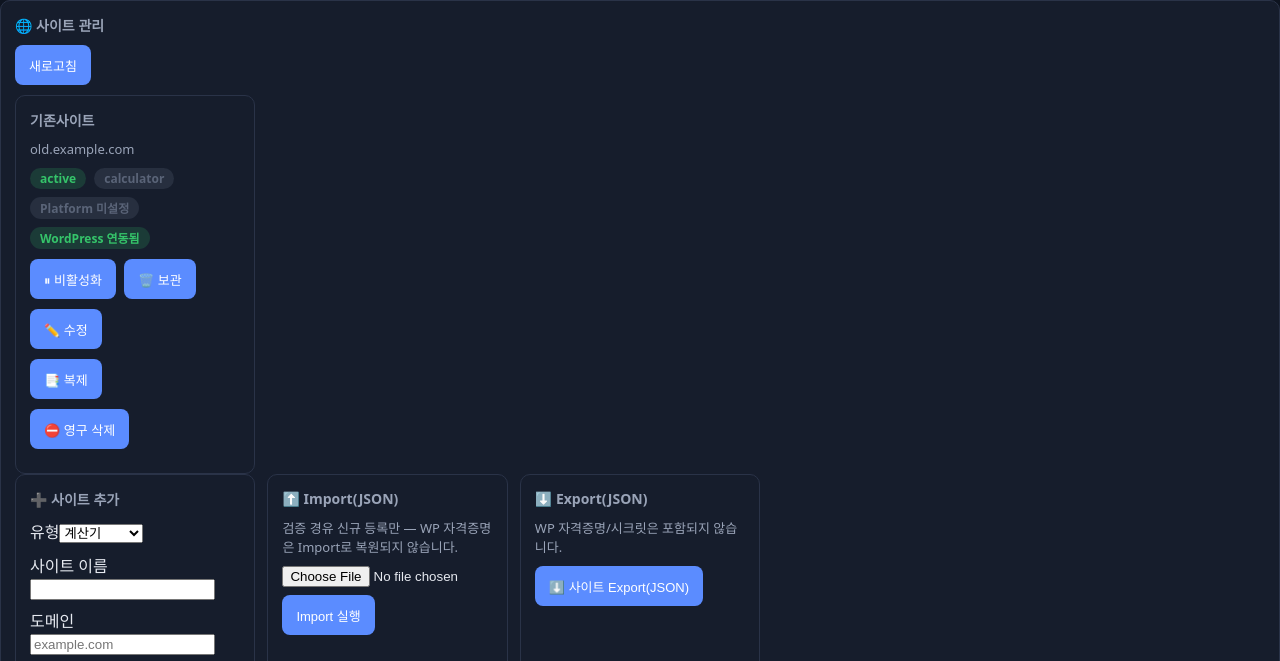
Scenario: Site edit panel (STEP P2-07) › shows a failure message when the basic-info save fails
Expected: the heading "기존사이트" is shown, [30,111,94,130]
Step 1. Click the button "✏️ 수정" → (66,329), box [30,309,102,349]
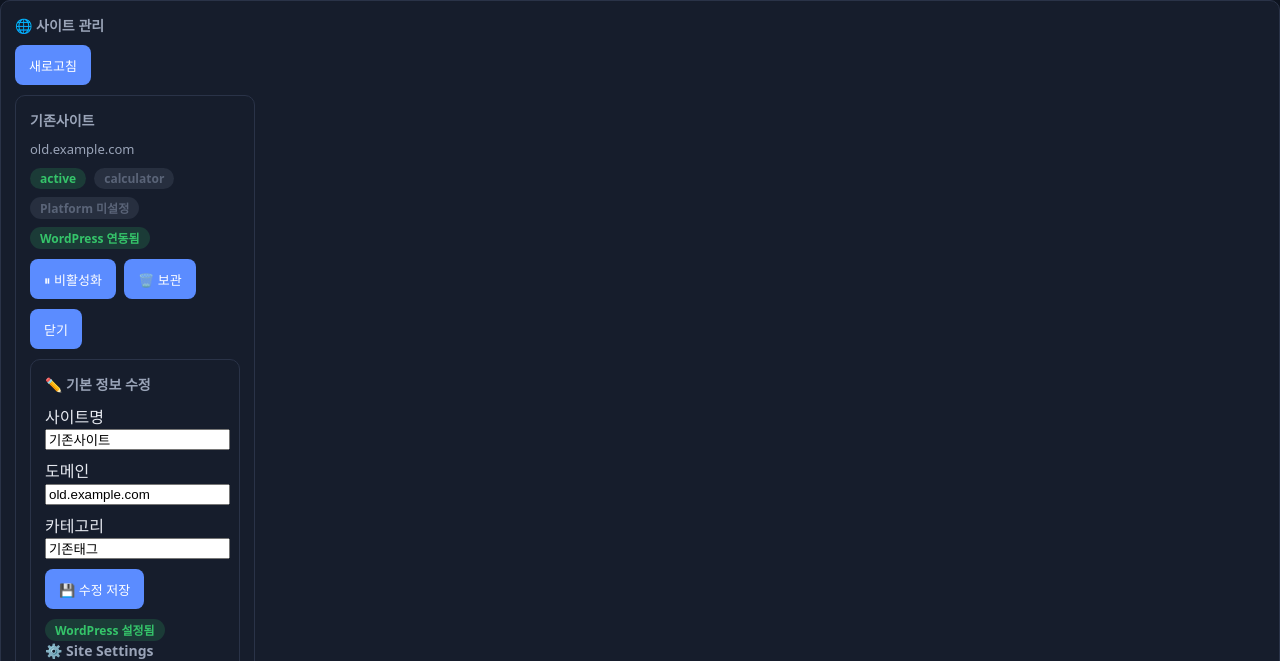
Now the heading "✏️ 기본 정보 수정" is shown, box [45,375,151,394]
Step 2. Click the button "💾 수정 저장" → (95,589), box [45,569,144,609]
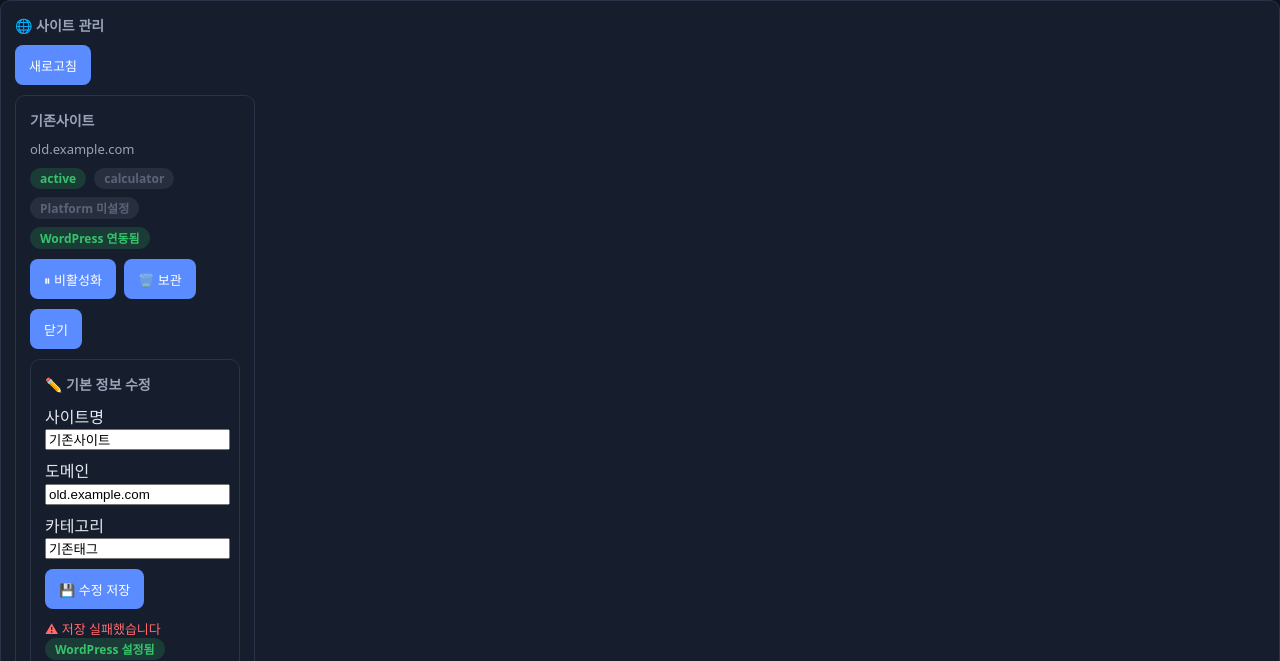
Now the text "⚠ 저장 실패했습니다" is shown, box [45,620,161,638]
